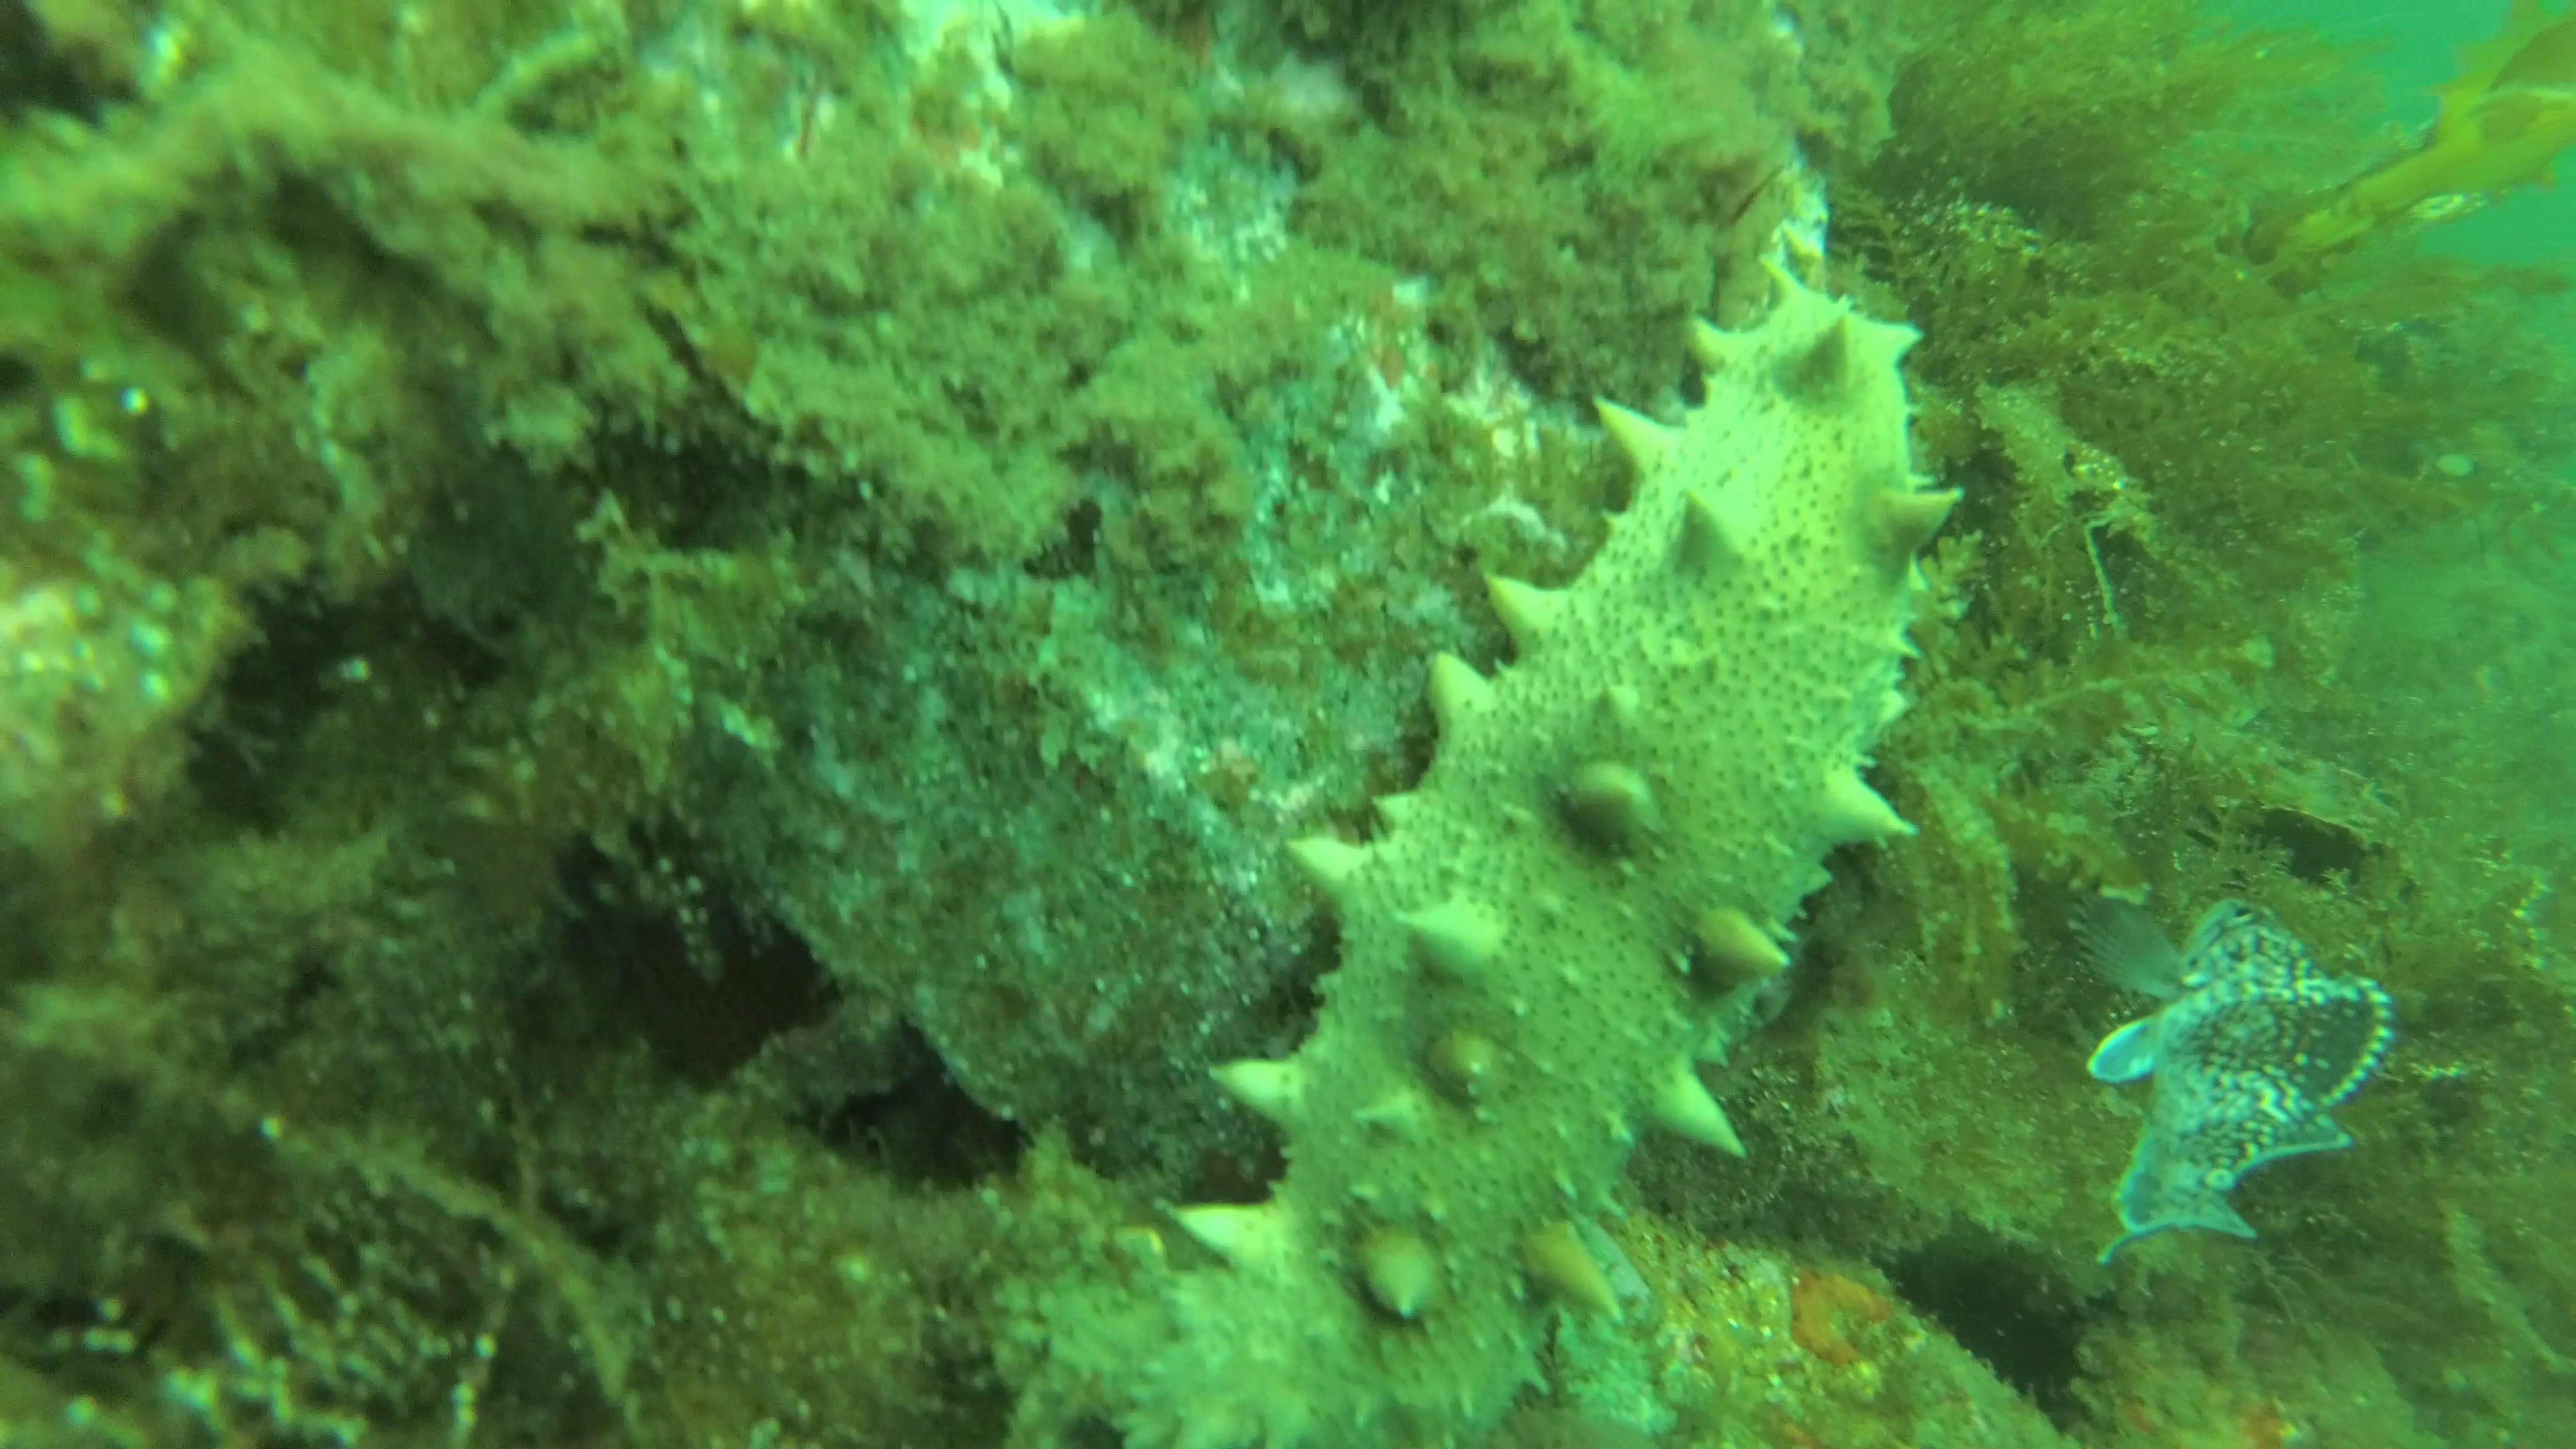holothurian: (1150, 257, 1967, 1449)
